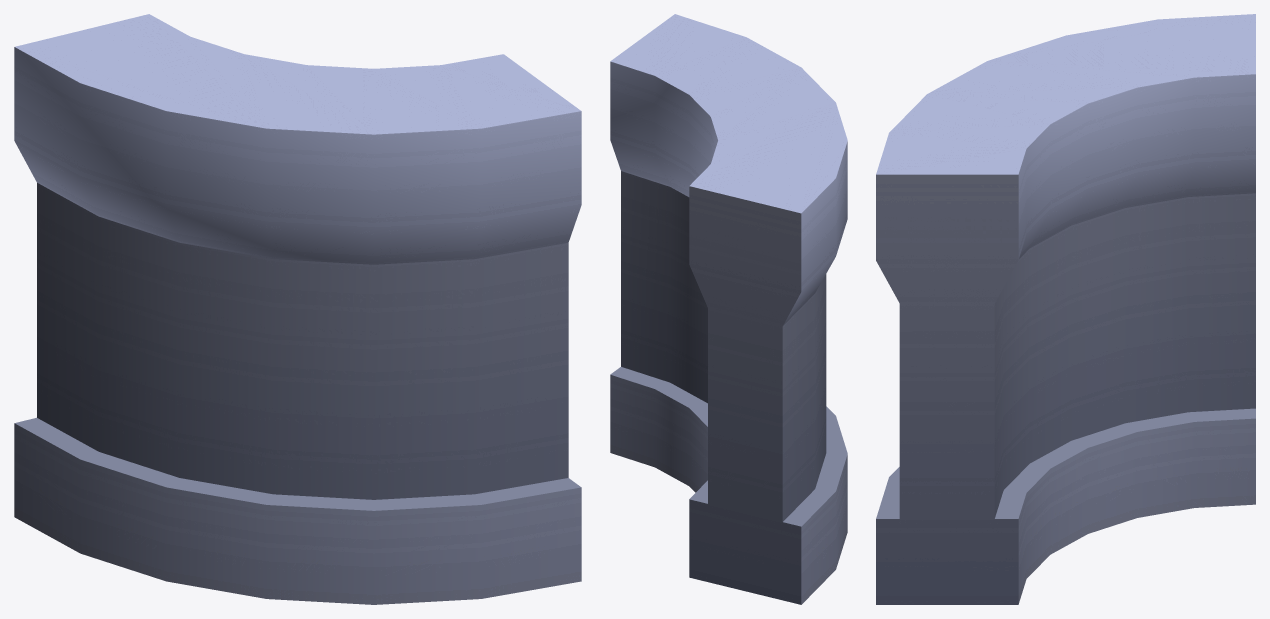
Rendered from wall-corner-round.glb.
3 views of the same model, side by side, from view 1: azimuth 30°, elevation 25°; view 2: azimuth 150°, elevation 25°; view 3: azimuth 270°, elevation 25° (orthographic). The views are drawn at different scales.
Visible parts, largest first — view 1: wall-corner-round; view 2: wall-corner-round; view 3: wall-corner-round.
Boxes of the visible parts, <box> form: wall-corner-round: <box>14,14,581,604</box>; wall-corner-round: <box>610,14,847,604</box>; wall-corner-round: <box>876,14,1255,604</box>.
Bounding box in the file's own units: 0.8 × 1 × 0.8.
1 material, 1 textured.
